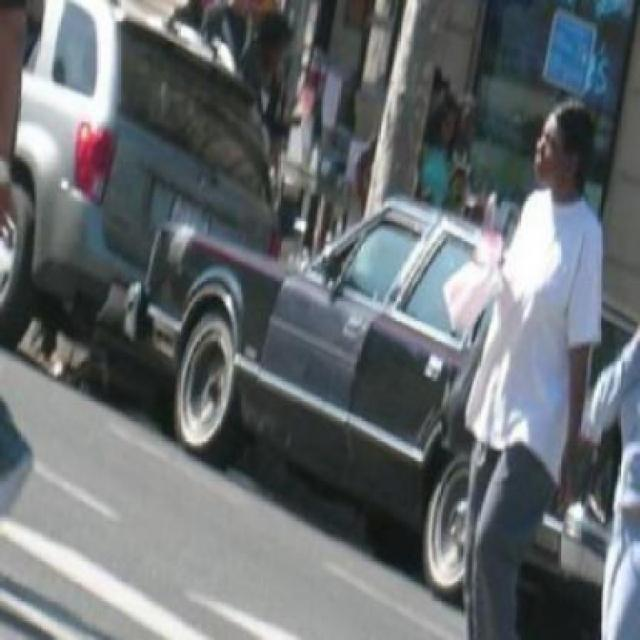Person: (454, 91, 601, 638)
